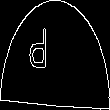P_S: (44, 29, 66, 81)
